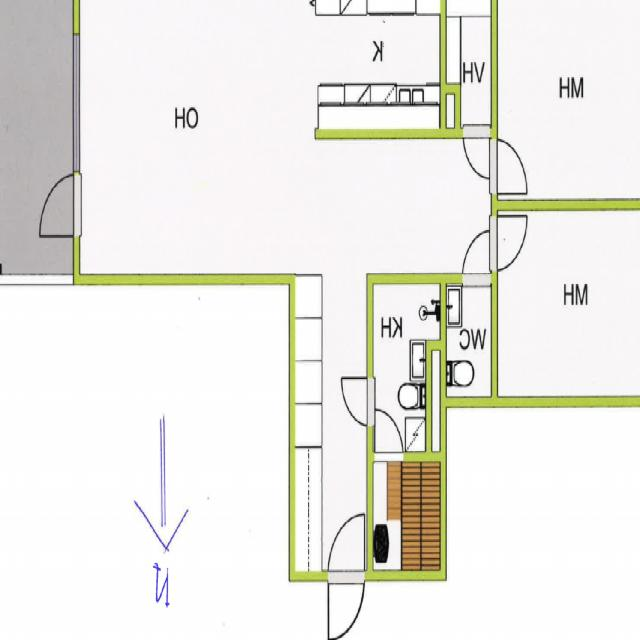door: (329, 508, 365, 580), (329, 569, 365, 640), (39, 178, 80, 235), (491, 142, 529, 194), (491, 217, 529, 269), (375, 405, 402, 462), (339, 378, 373, 423), (463, 230, 489, 284), (464, 127, 489, 179)
